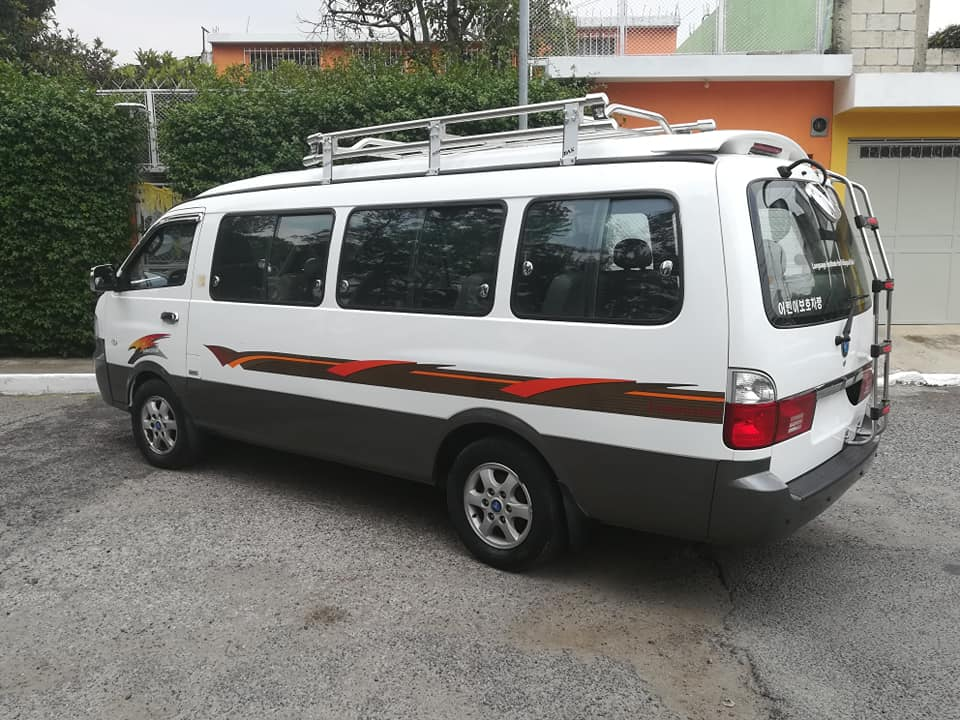bus: (85, 130, 890, 570)
